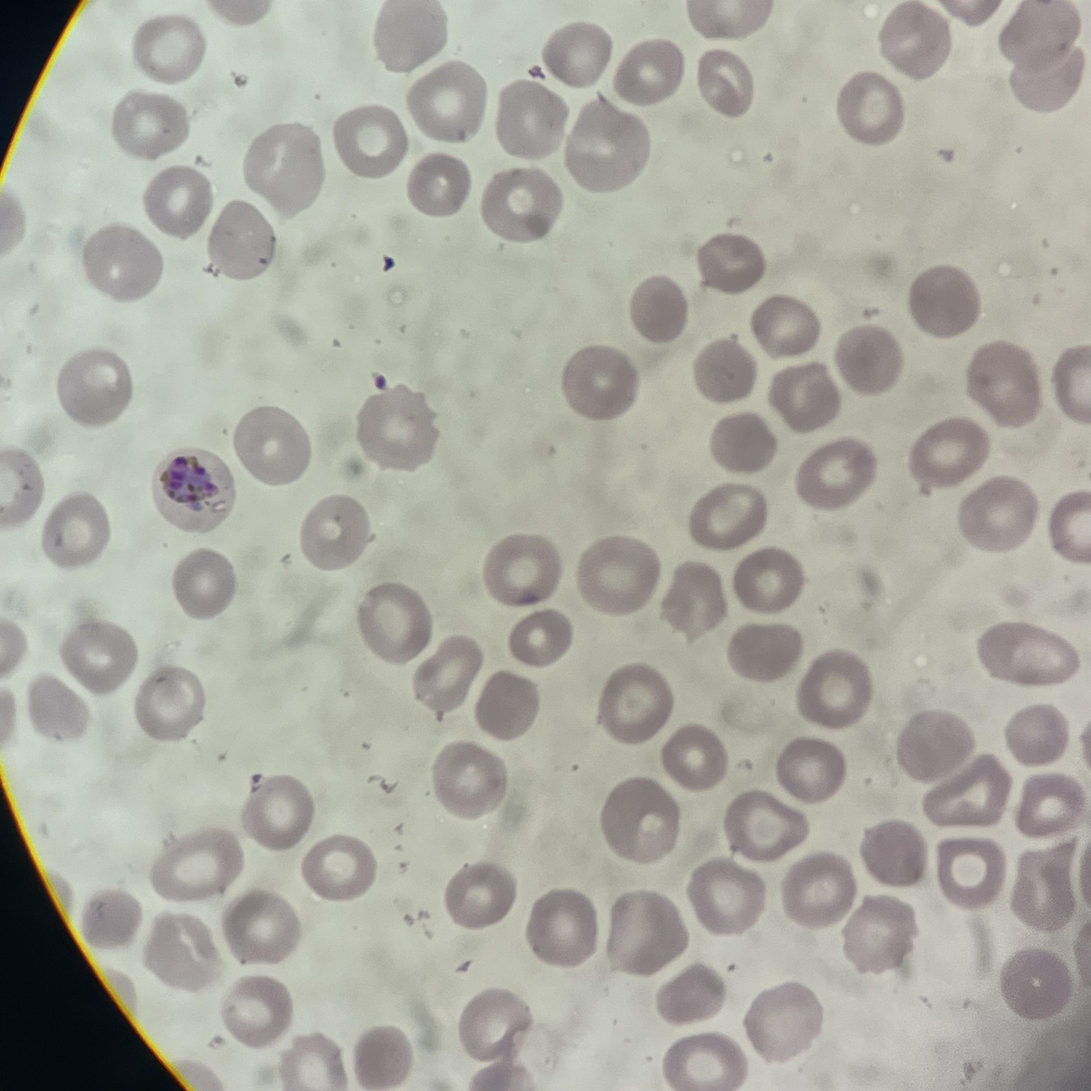Infected: (151, 446, 238, 535)
Uninfected: (241, 123, 324, 219), (566, 99, 651, 192), (357, 385, 440, 473), (402, 63, 488, 145), (744, 981, 826, 1066), (922, 753, 1010, 831), (607, 887, 688, 971), (602, 775, 679, 863), (978, 622, 1083, 685), (777, 849, 859, 929), (725, 786, 811, 862), (149, 832, 244, 900), (966, 337, 1040, 424), (911, 414, 989, 495), (55, 349, 133, 426), (578, 536, 658, 611), (798, 438, 879, 512), (203, 198, 276, 279), (895, 711, 976, 784), (221, 891, 303, 963), (299, 492, 371, 573), (371, 0, 446, 77), (483, 534, 561, 608), (413, 631, 479, 718), (1016, 843, 1082, 930), (232, 407, 307, 483), (356, 584, 428, 663), (493, 81, 564, 161), (140, 918, 220, 989), (435, 739, 508, 816), (481, 171, 560, 242), (60, 619, 140, 689), (688, 860, 764, 933), (837, 69, 906, 148), (882, 0, 950, 80), (90, 223, 157, 304), (906, 267, 980, 340), (529, 888, 598, 966), (132, 666, 206, 738), (997, 944, 1068, 1019), (688, 483, 764, 553), (40, 492, 107, 571), (457, 988, 529, 1061), (843, 897, 916, 969), (565, 344, 636, 418), (656, 560, 724, 637), (933, 834, 1004, 907), (835, 323, 905, 397), (800, 651, 869, 726), (601, 666, 670, 741), (445, 855, 514, 929), (132, 15, 207, 83), (217, 975, 292, 1043), (335, 107, 405, 179), (961, 479, 1038, 544), (145, 166, 216, 236), (771, 362, 842, 432), (111, 93, 186, 159), (613, 39, 684, 108), (244, 778, 313, 848), (659, 721, 727, 792), (1016, 50, 1091, 114), (1018, 772, 1091, 837), (1001, 0, 1074, 65), (732, 546, 803, 612), (694, 45, 754, 122), (689, 338, 759, 403), (861, 820, 926, 889), (543, 18, 607, 88), (664, 1035, 744, 1091), (780, 738, 847, 803), (1005, 701, 1070, 768), (299, 840, 374, 898), (477, 667, 540, 736), (173, 548, 234, 619), (28, 676, 89, 746), (404, 150, 468, 216), (710, 410, 778, 470), (752, 299, 821, 357), (723, 627, 801, 677), (655, 966, 720, 1026), (284, 1029, 346, 1091), (631, 273, 685, 344), (353, 1026, 409, 1091), (510, 608, 572, 666), (699, 234, 758, 293), (82, 887, 140, 944)
